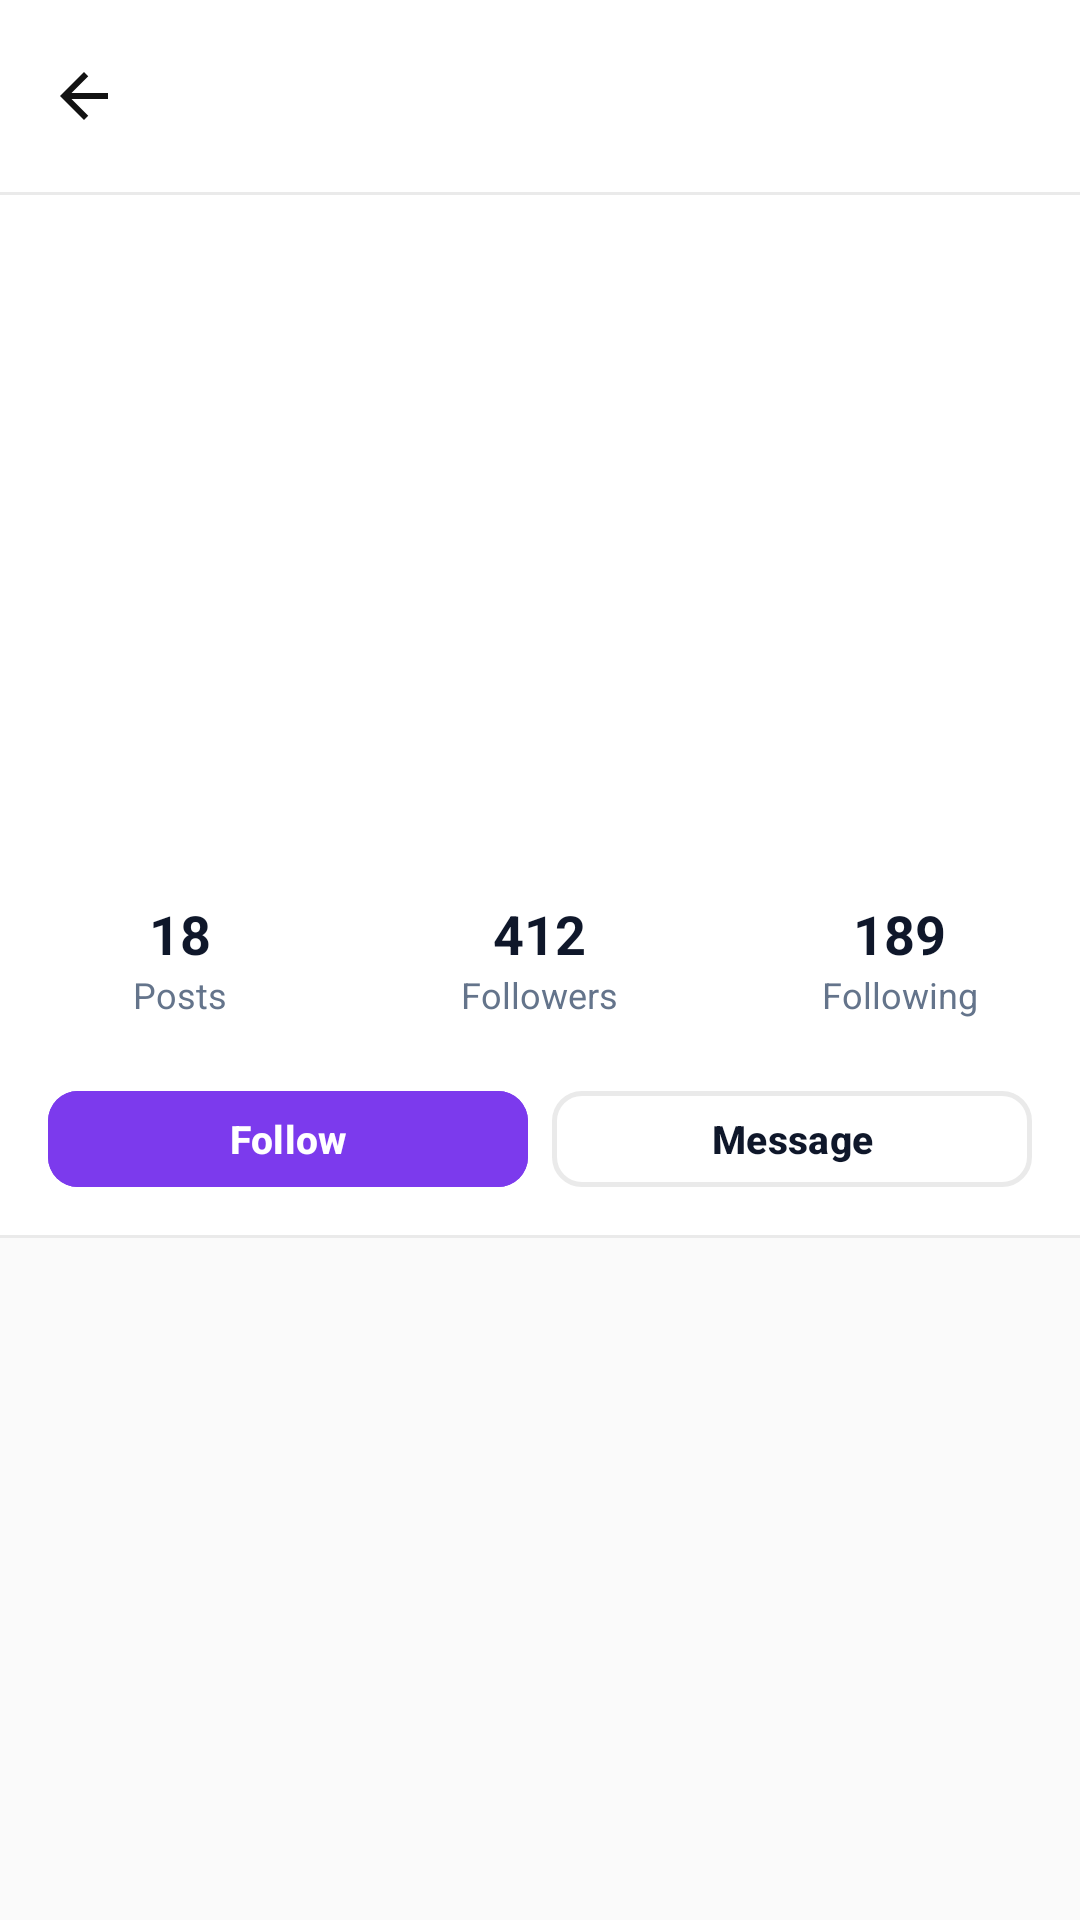

Screen size 1080*1920. Icon name, then its center in pixels as point (x, y):
Go Back: point (84, 96)
